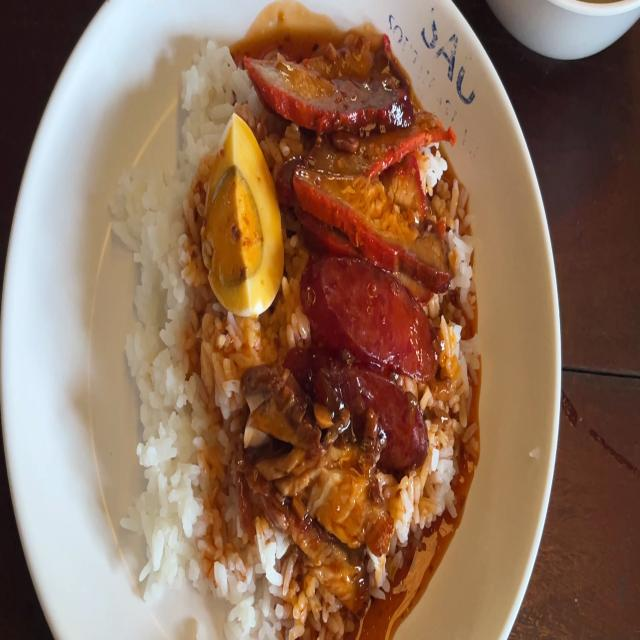01boiled_egg: (215, 132, 270, 309)
01chainese_sausage: (309, 270, 431, 442)
01crispy_pork: (263, 463, 392, 626), (239, 381, 311, 466)
01red_pork: (255, 26, 456, 141), (292, 136, 451, 256)
01red_pork_and_crispy_pork: (91, 0, 501, 640)
01rice: (125, 0, 190, 627), (184, 334, 234, 640)
